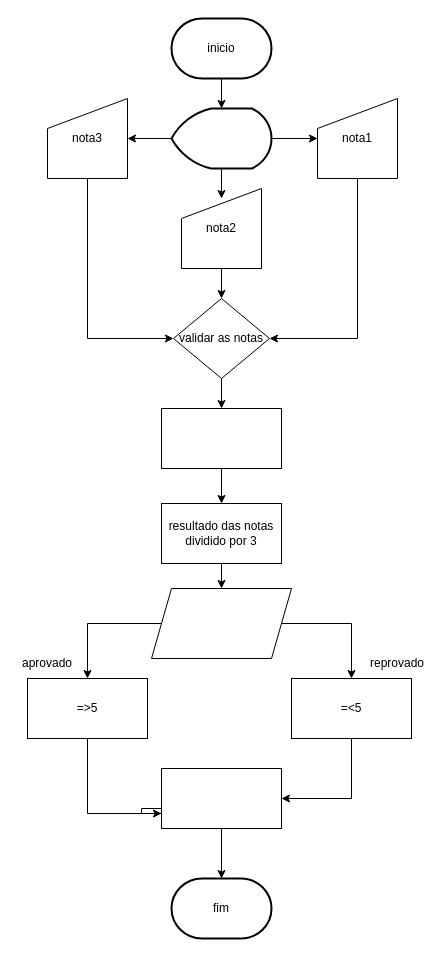
Image size: 444x956. Some labels were removed from this diagram. The box of each missing label's shape, as (x1, y1, x2, y2) in pixels:
aqui temos a media: (150, 588, 292, 658)
qual as notas?: (170, 107, 272, 169)
repassar ao aluno: (160, 768, 282, 828)
soma das 3 notas: (160, 408, 282, 468)
